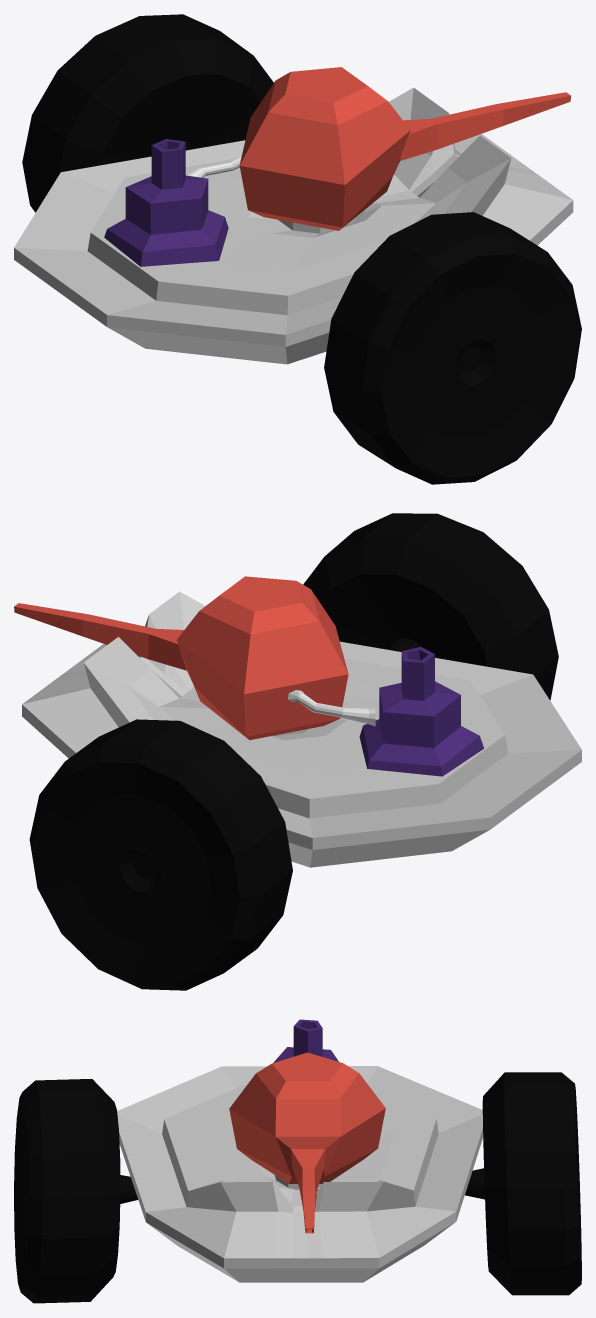
Rendered from robot5.fbx.
The picture shows the model from 3 angles, top to bottom: view 1: azimuth 30°, elevation 25°; view 2: azimuth 150°, elevation 25°; view 3: azimuth 270°, elevation 25°; orthographic projection. The views are drawn at different scales.
Parts seen in each view (by area): view 1: Circle, Circle.005, Circle.004, Circle.001, Circle.002; view 2: Circle.004, Circle, Circle.005, Circle.001, Circle.002, Circle.003; view 3: Circle, Circle.005, Circle.004, Circle.001, Circle.002.
Boxes of the visible parts, left/top/right/bottom form: Circle: left=14, top=87, right=573, bottom=364; Circle.005: left=324, top=212, right=581, bottom=484; Circle.004: left=22, top=14, right=273, bottom=212; Circle.001: left=239, top=67, right=570, bottom=230; Circle.002: left=104, top=139, right=228, bottom=266; Circle.004: left=29, top=719, right=292, bottom=990; Circle: left=22, top=591, right=581, bottom=867; Circle.005: left=303, top=513, right=558, bottom=700; Circle.001: left=14, top=576, right=348, bottom=740; Circle.002: left=359, top=647, right=483, bottom=776; Circle.003: left=288, top=690, right=375, bottom=726; Circle: left=117, top=1066, right=483, bottom=1282; Circle.005: left=14, top=1079, right=138, bottom=1303; Circle.004: left=465, top=1072, right=581, bottom=1295; Circle.001: left=229, top=1052, right=385, bottom=1233; Circle.002: left=273, top=1019, right=338, bottom=1062.
Bounding box in the file's own units: 248 × 126 × 282.
